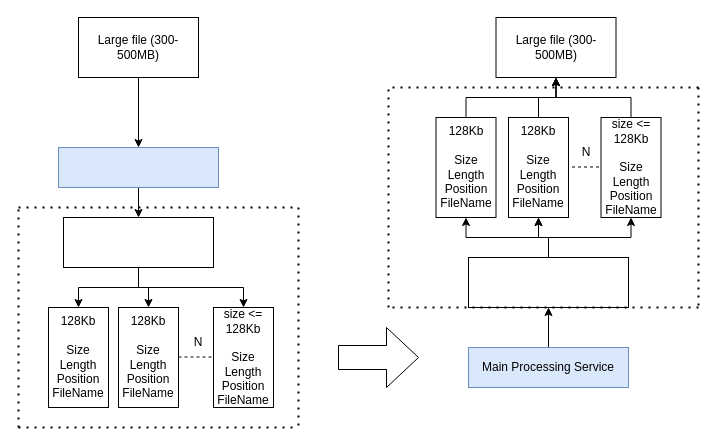
The diagram is 717 pixels wide and 447 high, and some of its shapes have lost their labels. The shapes that lost their labels are listed below. From the top down, each one's centre as x and y in pixels, then its label:
At point 138,167: "Data Capture Service".
At point 138,242: "FormMessageAsync Method".
At point 548,282: "ListenQueueAsync Method".
